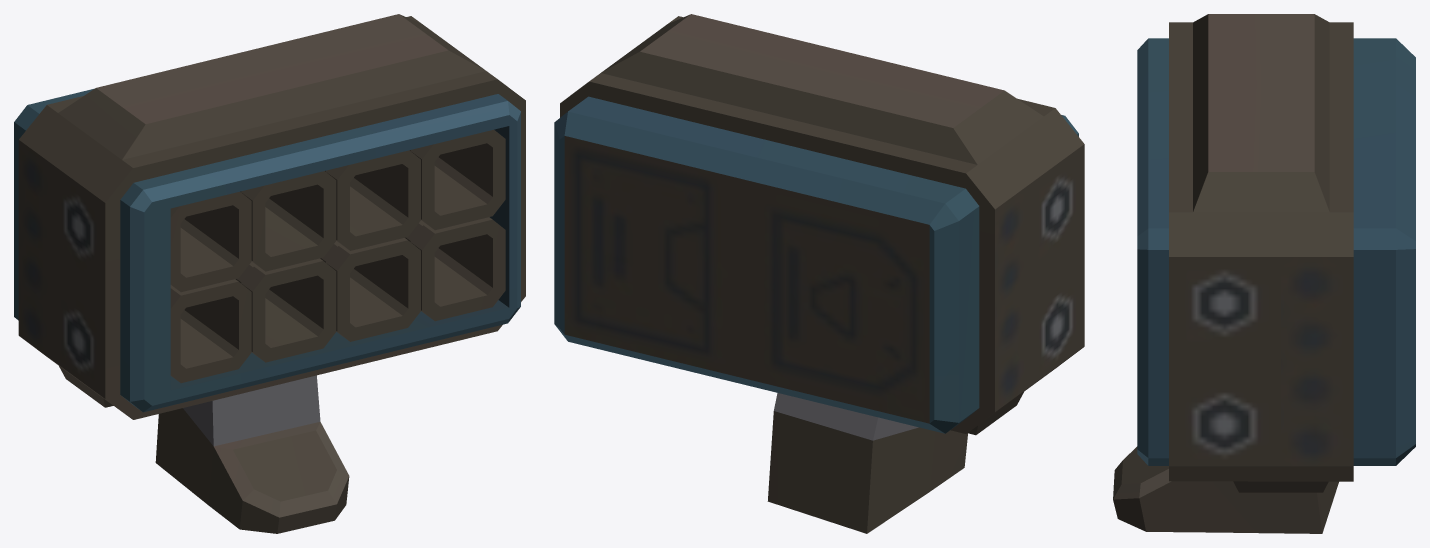
Rendered from mech_SM_Mech_Chest_01_Weapon_Collar_02_Empty.gltf.
3 views of the same model, side by side, from view 1: azimuth 30°, elevation 25°; view 2: azimuth 150°, elevation 25°; view 3: azimuth 270°, elevation 25° (orthographic). The views are drawn at different scales.
Visible parts, largest first — view 1: SM_Mech_Chest_01_Weapon_Collar_02_Empty; view 2: SM_Mech_Chest_01_Weapon_Collar_02_Empty; view 3: SM_Mech_Chest_01_Weapon_Collar_02_Empty.
Part boxes in pixels (<box>): SM_Mech_Chest_01_Weapon_Collar_02_Empty: <box>14,14,525,533</box>; SM_Mech_Chest_01_Weapon_Collar_02_Empty: <box>554,14,1084,533</box>; SM_Mech_Chest_01_Weapon_Collar_02_Empty: <box>1113,14,1415,533</box>.
Size of the model in its own units: 0.7216 by 0.6577 by 0.4215.
Materials: 1 (1 with a texture image).
